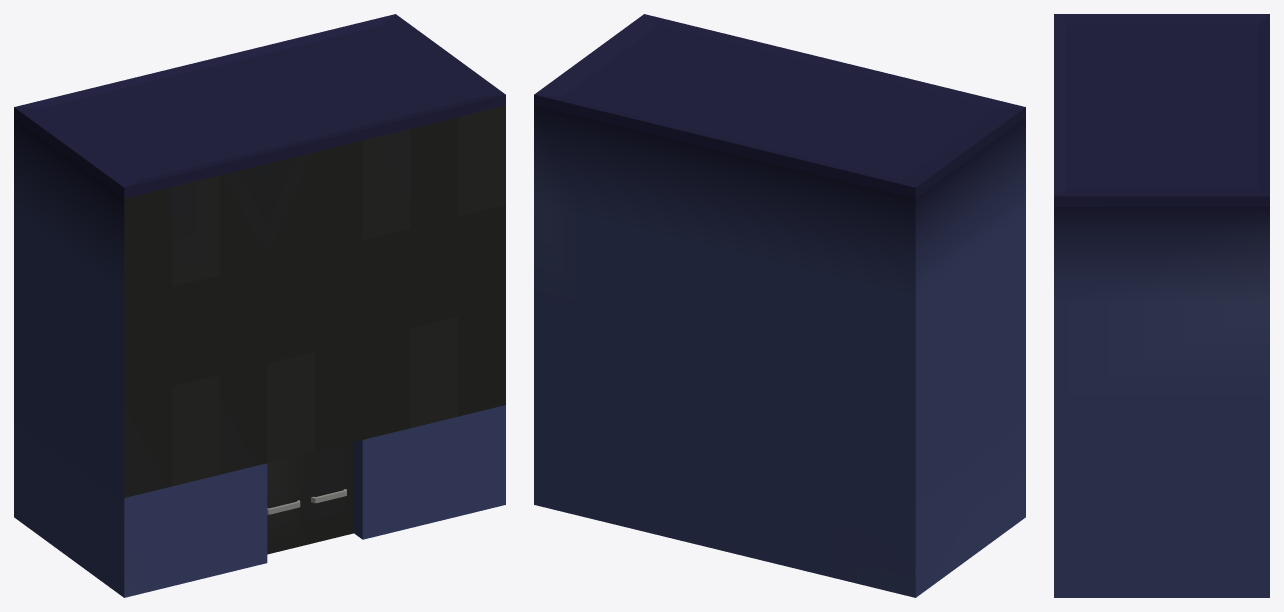
File: predio_executivo.fbx
3 renders of one model, left to right at view 1: azimuth 30°, elevation 25°; view 2: azimuth 150°, elevation 25°; view 3: azimuth 270°, elevation 25°, orthographic. The views are drawn at different scales.
Parts seen in each view (by area): view 1: predio_executivo; view 2: predio_executivo; view 3: predio_executivo.
Boxes of the visible parts, x1,y1,x2,y2 form: predio_executivo: [14, 14, 505, 597]; predio_executivo: [534, 14, 1025, 597]; predio_executivo: [1054, 14, 1269, 597].
Bounding box in the file's own units: 913 × 937 × 456.
